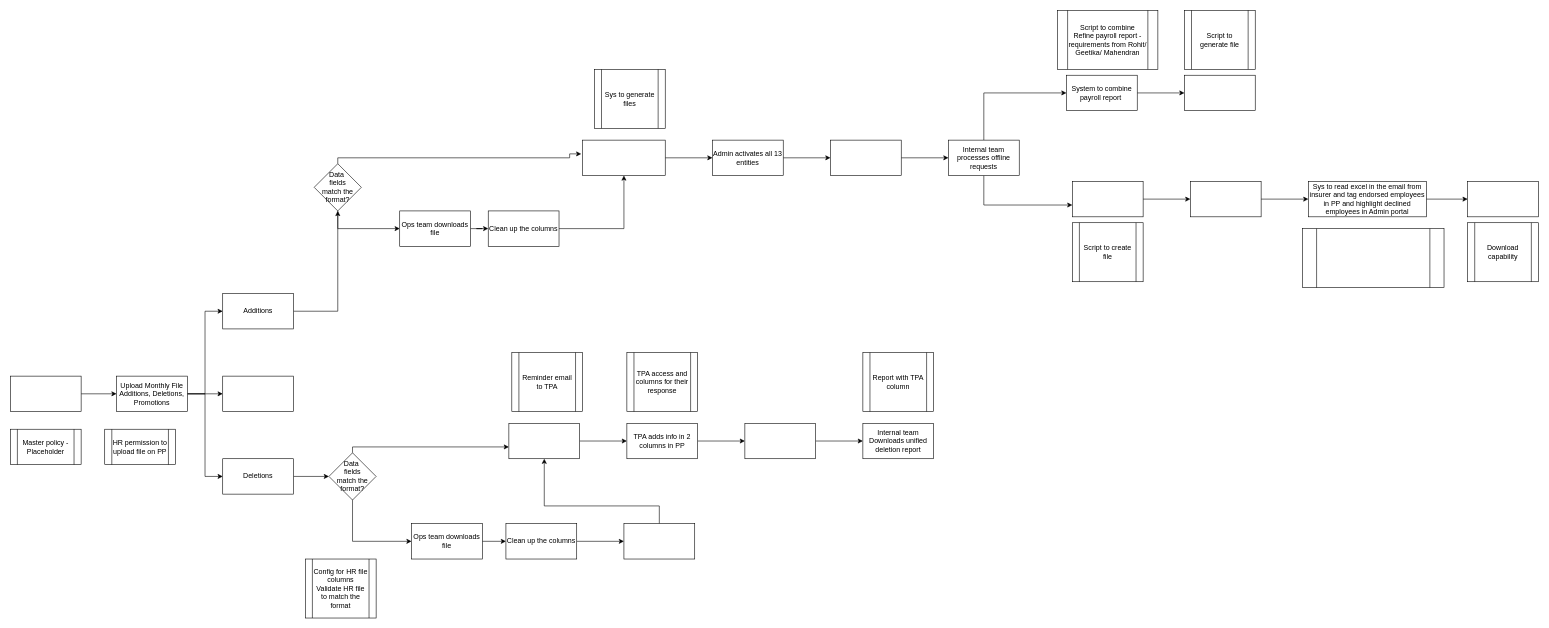
This 1549x628 diagram has some shape labels left out. Each missing label, with the centre of its shape:
"Allow internal team to download endorsement file" belongs at point (1502, 199).
"Auto email to TPA for claims MIS - reminder" belongs at point (544, 441).
"email directly to internal team and insurer" belongs at point (1225, 199).
"Employees complete enrolment Employee enrolment closes" belongs at point (865, 158).
"Modifications Allow reenrollment" belongs at point (258, 394).
"Pwc HR logs into Master PP login" belongs at point (45, 394).
"Script to read NIA endorsement format" belongs at point (1373, 258).
"Sys send single file in PWC accepted format" belongs at point (1219, 93).
"System deletes emplyees from 13 entties" belongs at point (780, 441).
"System Separates employees into 13 entities and adds employees to PP" belongs at point (623, 158).
"System to combine insurer report in NIA format" belongs at point (1107, 199).
"Upload clean data into PP" belongs at point (659, 541).
